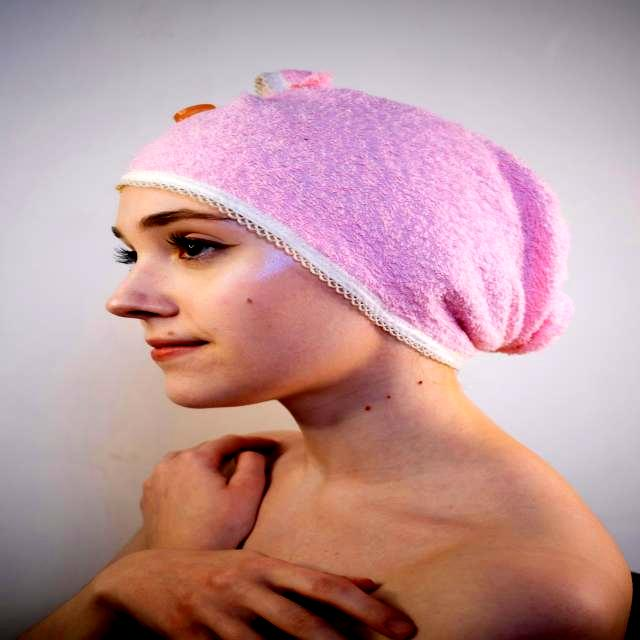no_hard_hat: (117, 70, 572, 369)
person: (18, 71, 633, 640)
